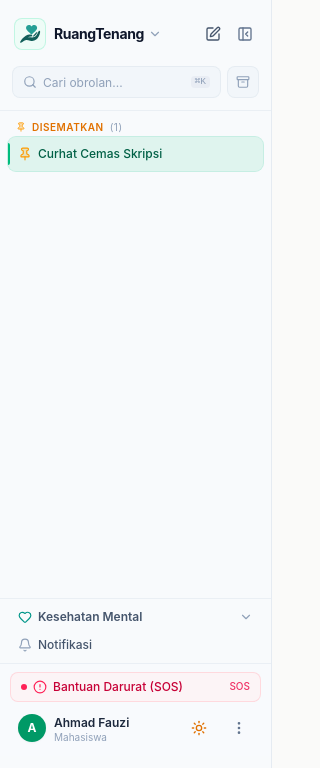
Test: Sidebar Overhaul Unit Tests › renders Dual-Mode switcher, New Chat button, and grouped chats correctly
Click the button with aria-label "Mode: RuangTenang": click(88, 34) [6, 12, 170, 56]
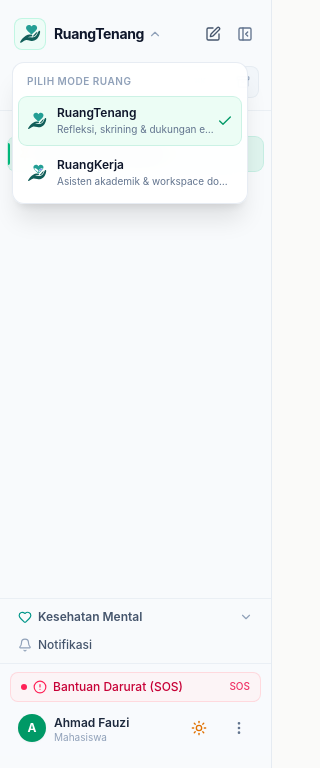
Expected: the button named "Chat Baru" is shown, [199, 20, 227, 48]
Expected: the button "RuangKerja Asisten akademik & workspace dokumen" is shown, [19, 149, 241, 197]
